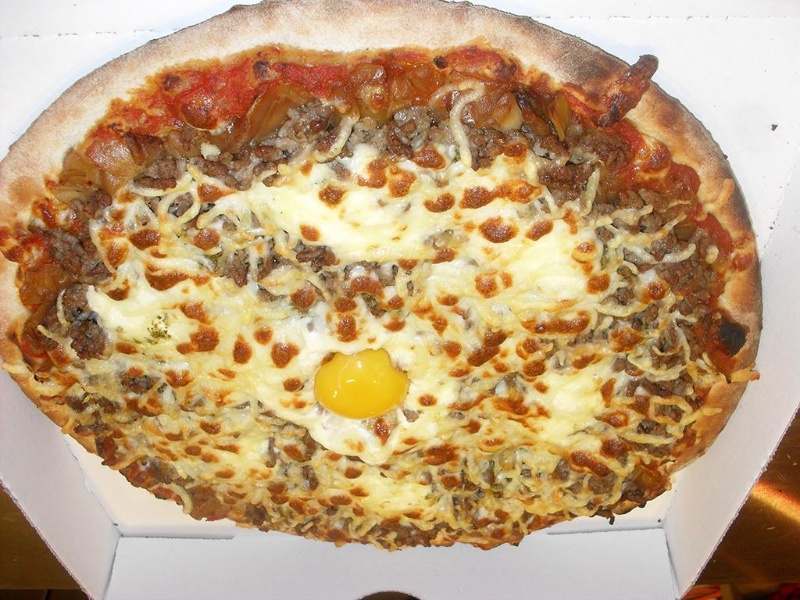oeuf: (309, 347, 416, 423)
